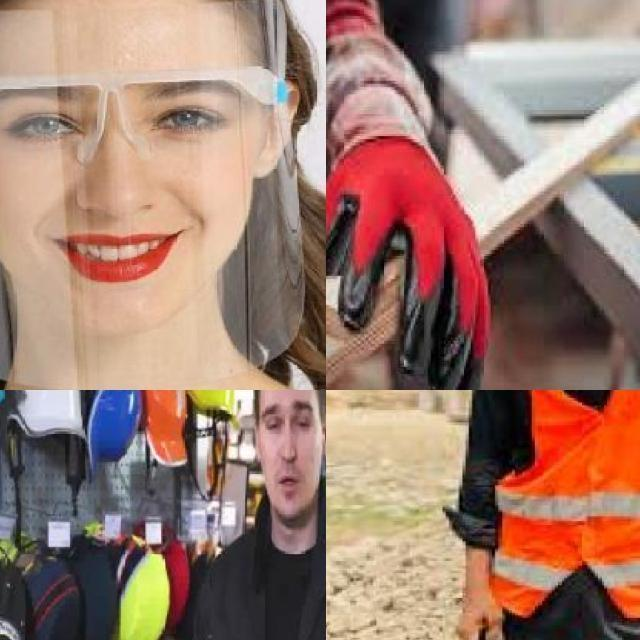apron: (326, 123, 516, 390)
